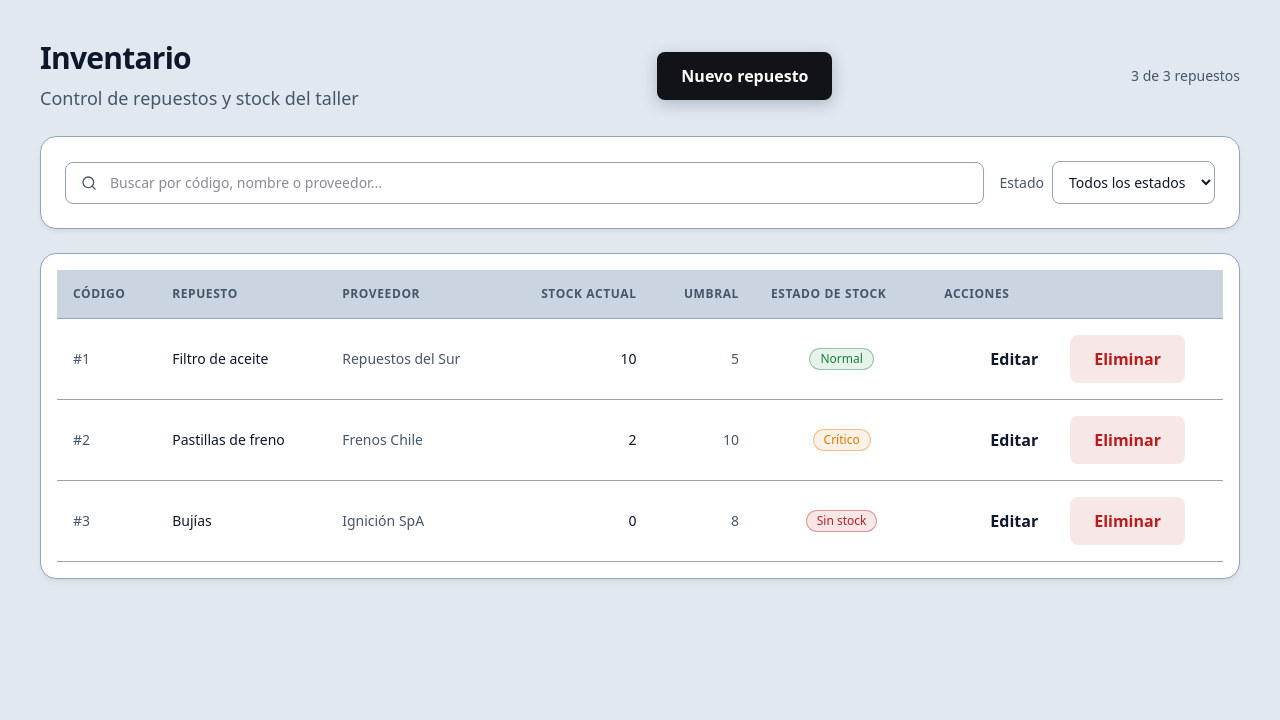
Scenario: AdminInventoryPage: filtros y estado de stock › filtra por texto sobre nombre, proveedor y código
Check: the text "Filtro de aceite" is shown, box x1=156 y1=319 x2=326 y2=400
Step 1. Type "frenos chile" into the search field named "Buscar repuestos" → (524, 182), box x1=65 y1=162 x2=984 y2=204
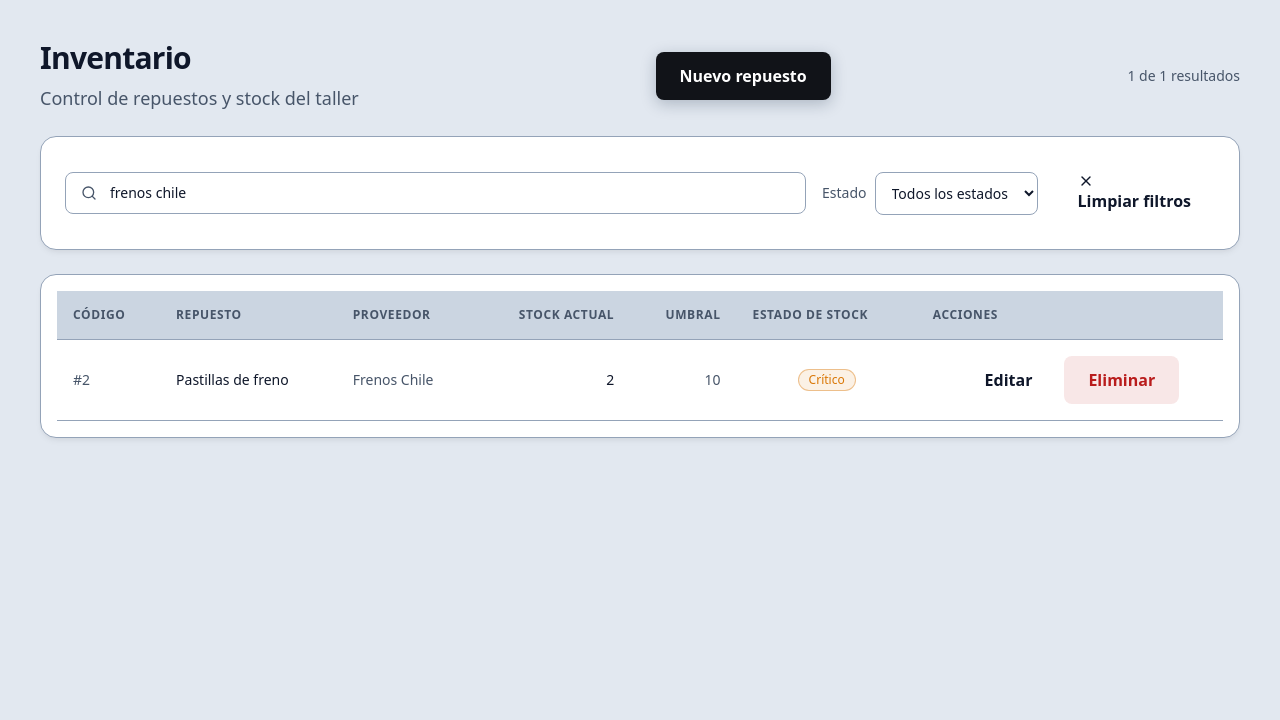
Check: the text "Filtro de aceite" is gone
Check: the text "Bujías" is gone
Check: the text "1 de 1 resultados" is shown, box x1=1128 y1=66 x2=1240 y2=86
